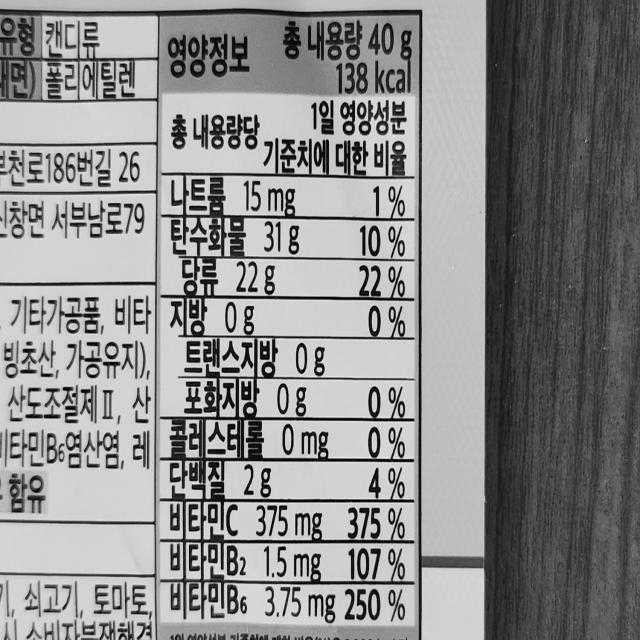Nutrition Label: (157, 5, 434, 640)
